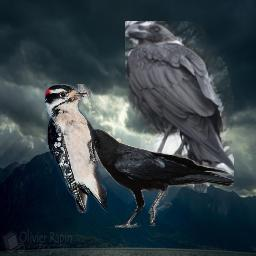Crow: (125, 21, 234, 193), (66, 127, 234, 228)
Woodpecker: (44, 84, 107, 213)
